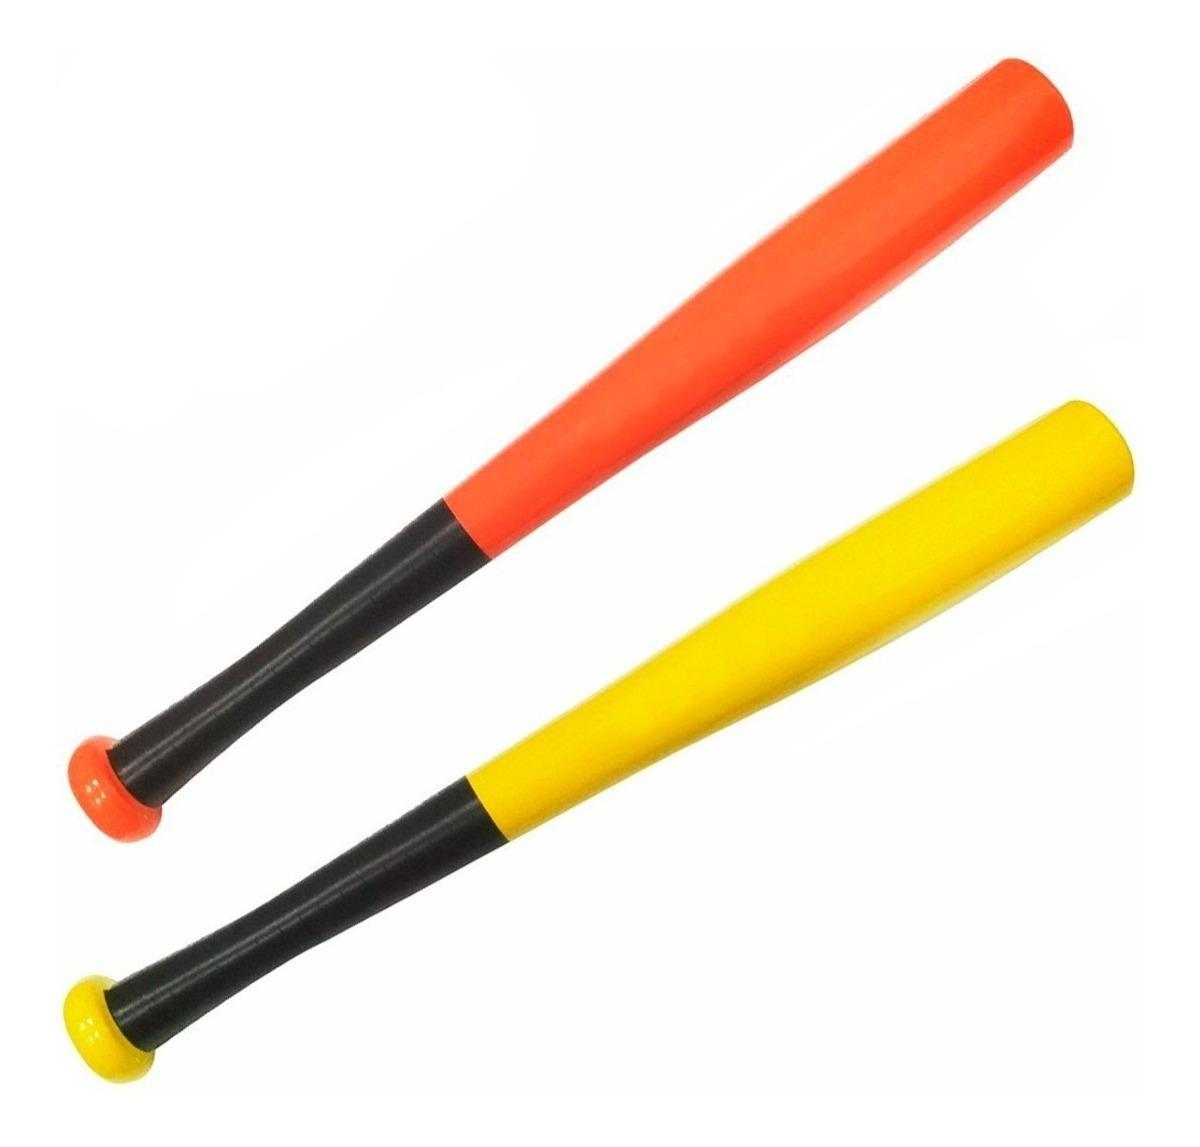Baseball-Bat: (0, 45, 1083, 850), (63, 392, 1140, 1114)
